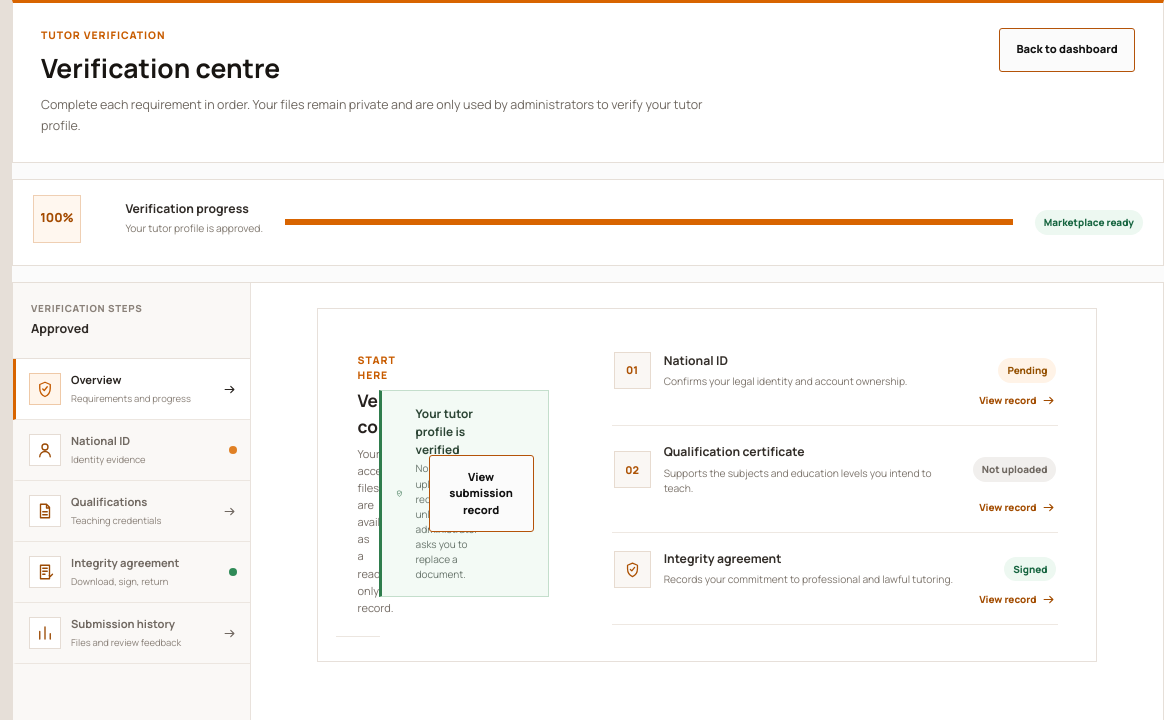
Test case: TutorDocumentsPage › hides all submission forms after tutor approval
This screenshot has width=1164, height=720.
Expected: the text "Your tutor profile is verified" is shown, left=416, top=405, right=478, bottom=458
What coordinates should you click on to do the following:
click the button "View submission record"
I would click on:
 (481, 494)
Its box is left=429, top=455, right=534, bottom=532.
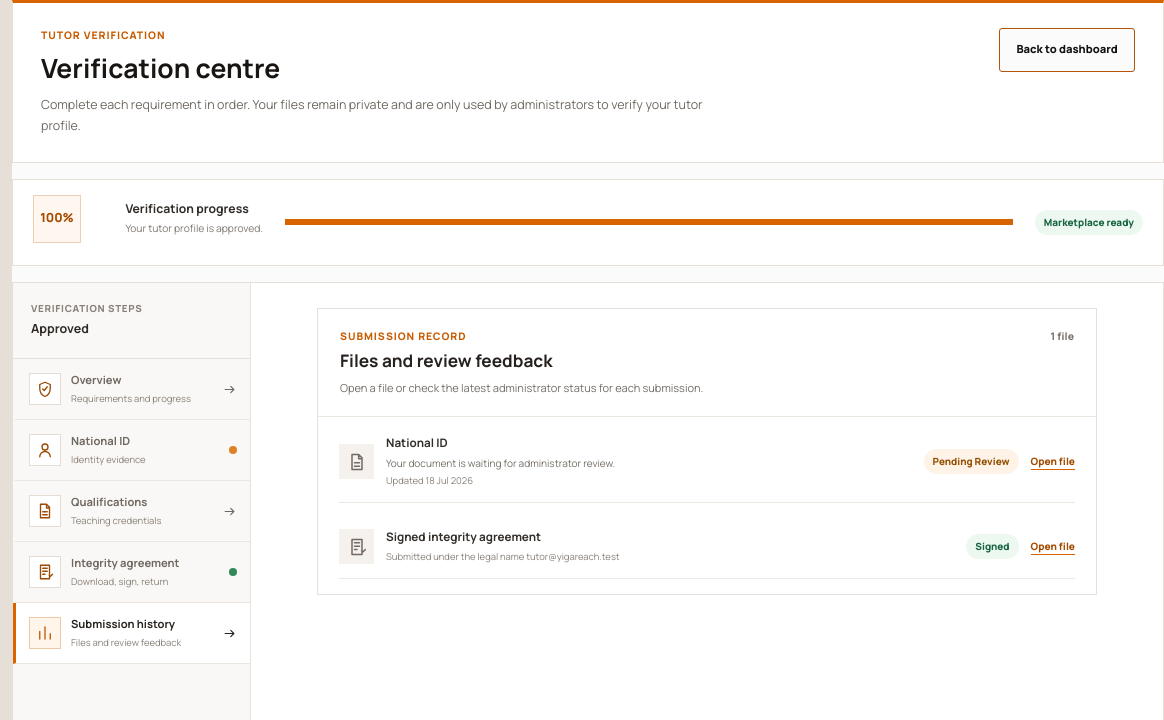
Expected: the heading "Files and review feedback" is shown, left=340, top=349, right=553, bottom=372
